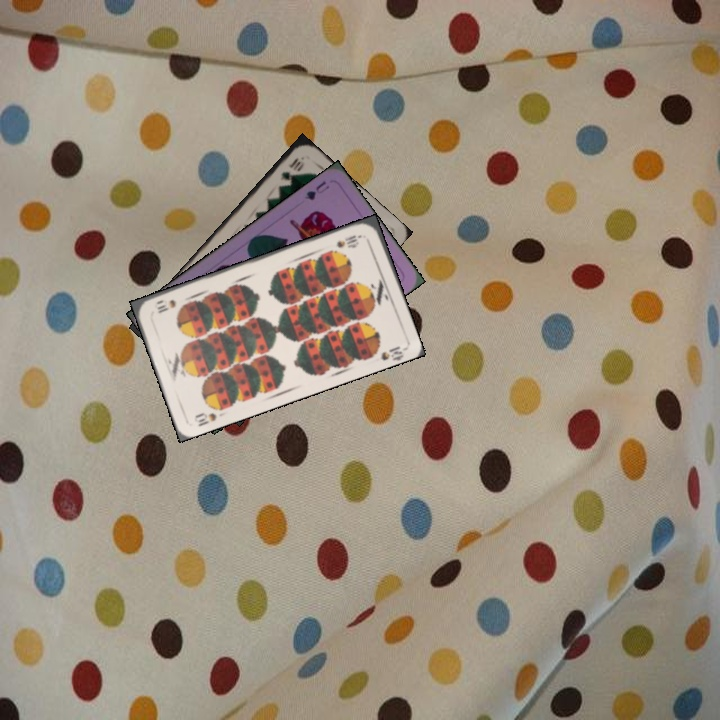G10: (276, 153, 305, 183)
GU: (301, 176, 332, 203)
S10: (332, 231, 364, 250), (191, 408, 219, 429)
